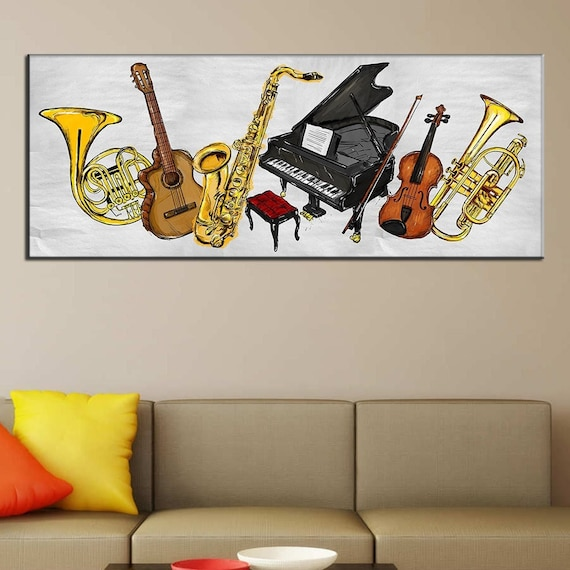Piano: (233, 70, 433, 294)
Saxophone: (193, 62, 338, 293)
Violin: (376, 86, 493, 280)
